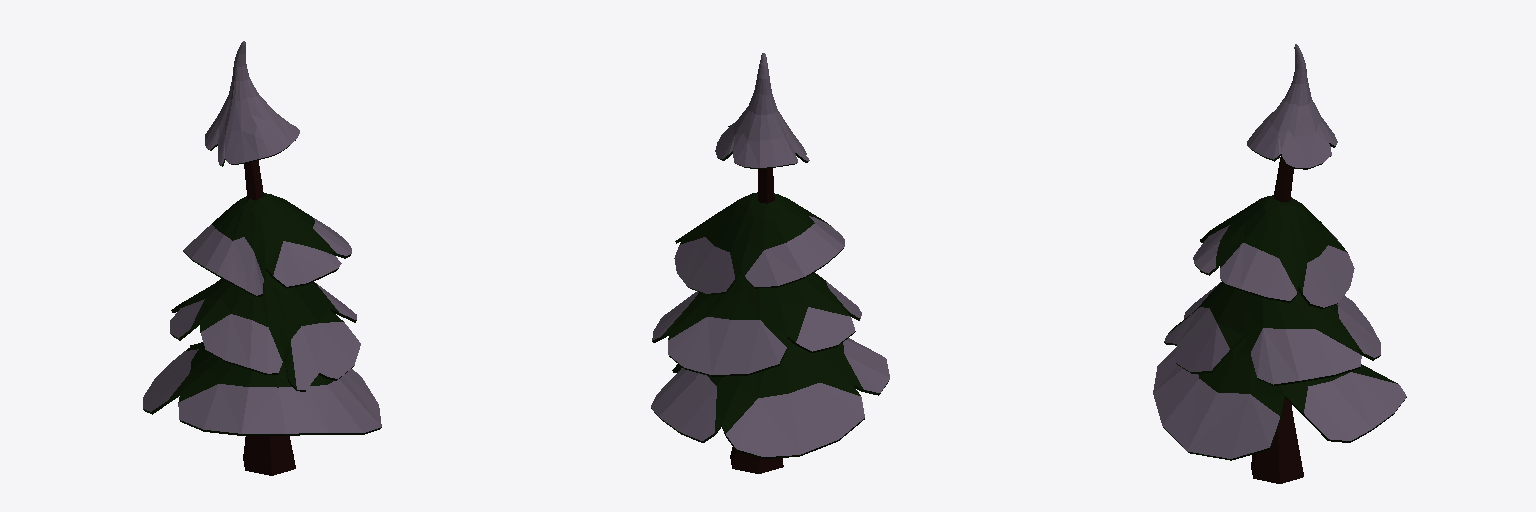
File: PineTree_Snow_2.obj
3 renders of one model, left to right at view 1: azimuth 30°, elevation 25°; view 2: azimuth 150°, elevation 25°; view 3: azimuth 270°, elevation 25°, orthographic.
Parts seen in each view (by area): view 1: PineTree_Snow_2_Cylinder.079; view 2: PineTree_Snow_2_Cylinder.079; view 3: PineTree_Snow_2_Cylinder.079.
Part boxes in pixels (x1,y1,x2,y2): PineTree_Snow_2_Cylinder.079: (143, 41, 381, 475); PineTree_Snow_2_Cylinder.079: (651, 53, 889, 473); PineTree_Snow_2_Cylinder.079: (1153, 44, 1406, 483).
Bounding box in the file's own units: 1.8 × 3.56 × 1.96.